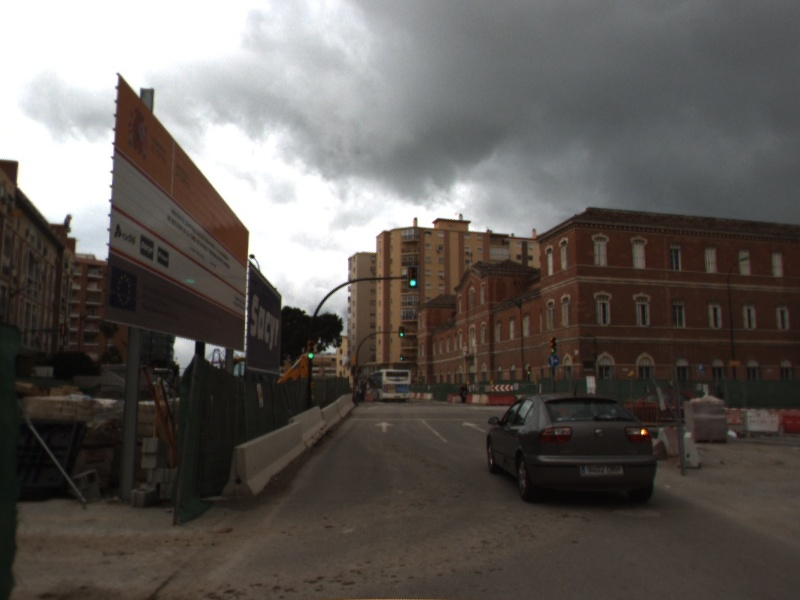STRAIGHT: (461, 420, 489, 434), (373, 420, 396, 434)
